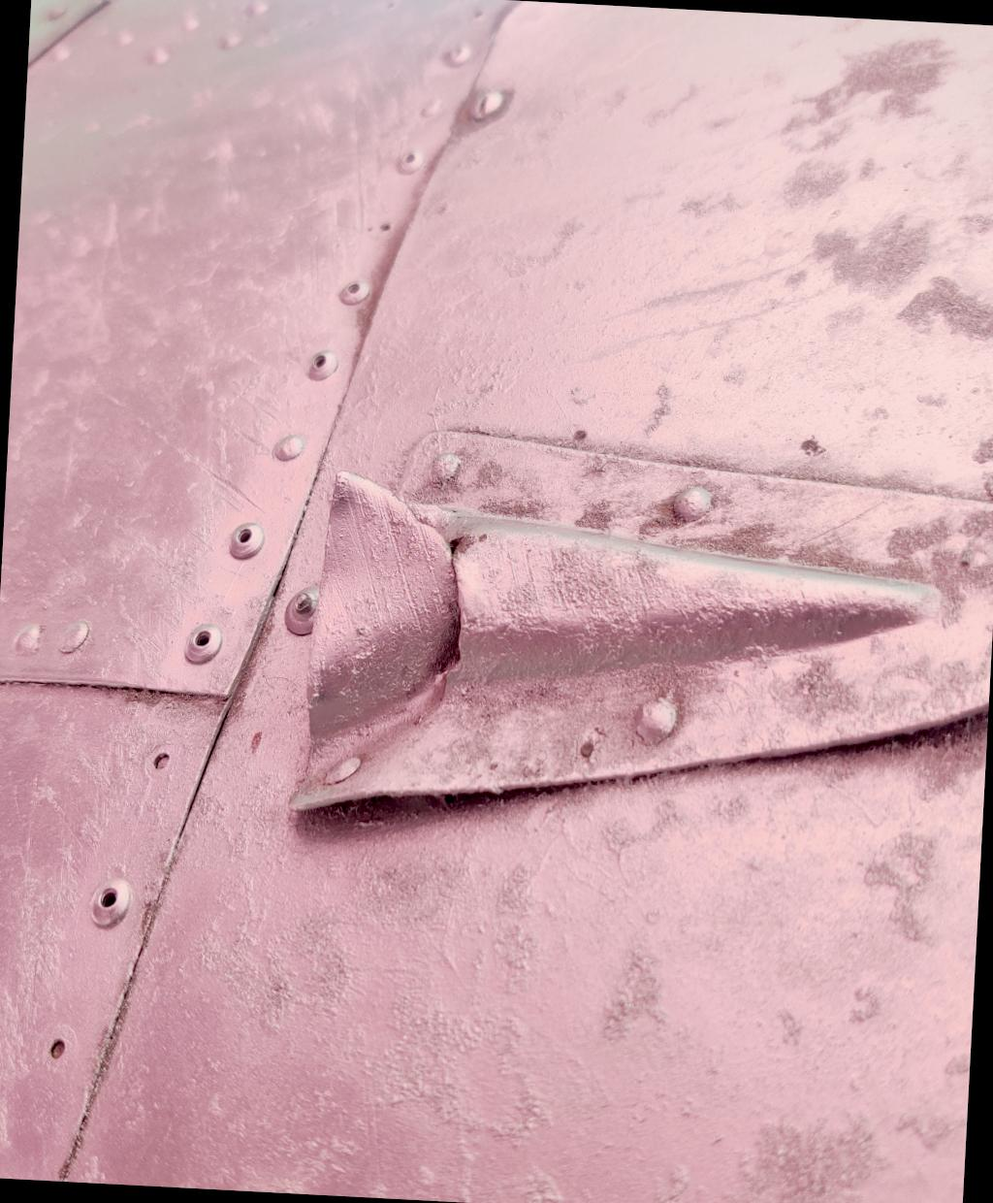crack: (388, 496, 497, 723)
